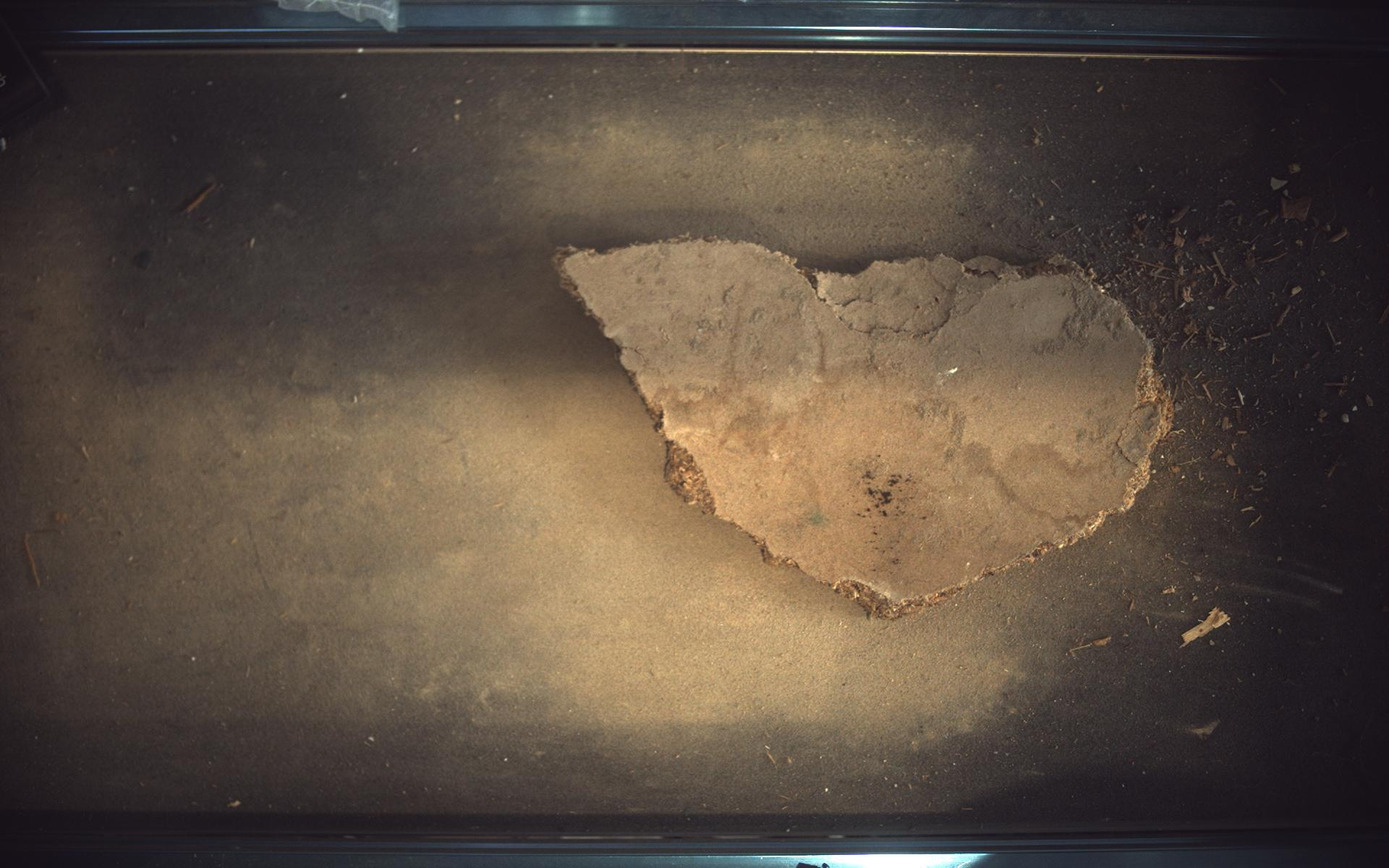wood: (556, 239, 1175, 618)
